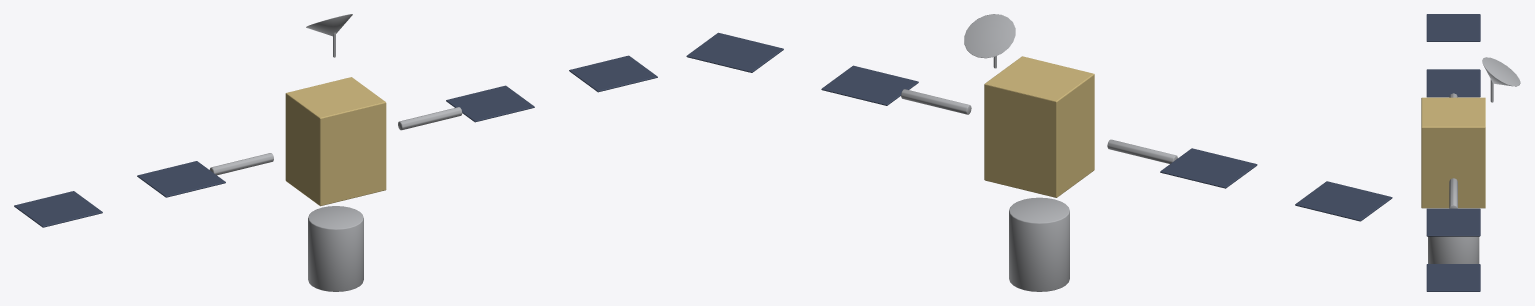
Rendered from satellite.glb.
The picture shows the model from 3 angles, left to right: view 1: azimuth 30°, elevation 25°; view 2: azimuth 150°, elevation 25°; view 3: azimuth 270°, elevation 25°; orthographic projection. The views are drawn at different scales.
Parts seen in each view (by area): view 1: Satellite; view 2: Satellite; view 3: Satellite.
Part boxes in pixels (x1,y1,x2,y2): Satellite: (14, 14, 657, 291); Satellite: (686, 14, 1392, 291); Satellite: (1421, 14, 1520, 291).
Bounding box in the file's own units: 5.1 × 1.97 × 0.7709.
